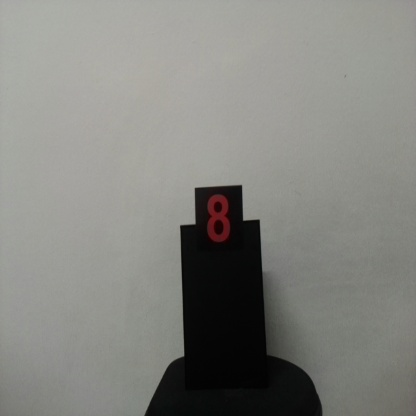id_8: (194, 188, 244, 259)
